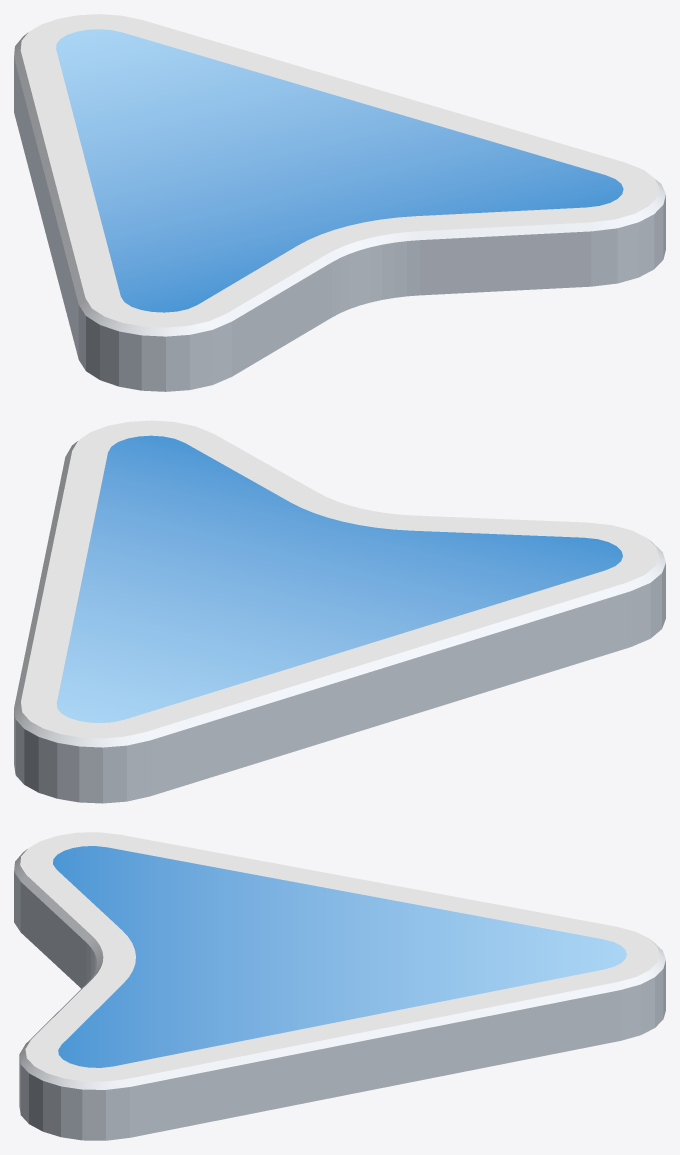
File: navigation_puck.glb
3 renders of one model, top to bottom at view 1: azimuth 30°, elevation 25°; view 2: azimuth 150°, elevation 25°; view 3: azimuth 270°, elevation 25°, orthographic. The views are drawn at different scales.
Visible parts, largest first — view 1: NavigationPuck; view 2: NavigationPuck; view 3: NavigationPuck.
Part boxes in pixels (<box>): NavigationPuck: <box>14,14,665,391</box>; NavigationPuck: <box>14,420,665,803</box>; NavigationPuck: <box>14,832,665,1140</box>.
Bounding box in the file's own units: 0.7253 × 0.075 × 0.7844.
Materials: 5 (1 with a texture image).
